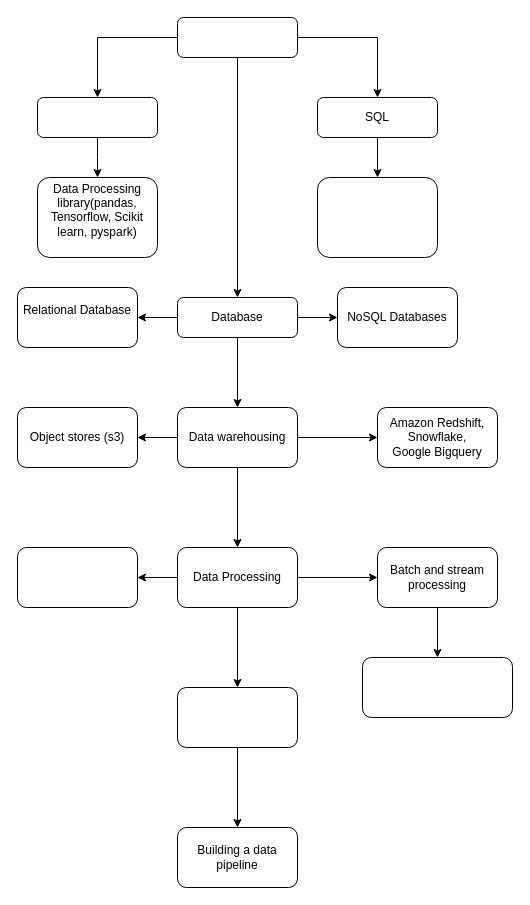
Image size: 530x905. Some labels were removed from this diagram. The box of each missing label's shape, as (x1, y1, x2, y2) in pixels:
Apache spark Map reduce AWS EMR Kafka: (362, 656, 512, 718)
ETL: (16, 546, 138, 608)
Foundation: (176, 16, 298, 58)
Hadoop Ecosystem: (176, 686, 298, 748)
Python: (36, 96, 158, 138)
Transactional, Group by, window functions: (316, 176, 438, 258)
